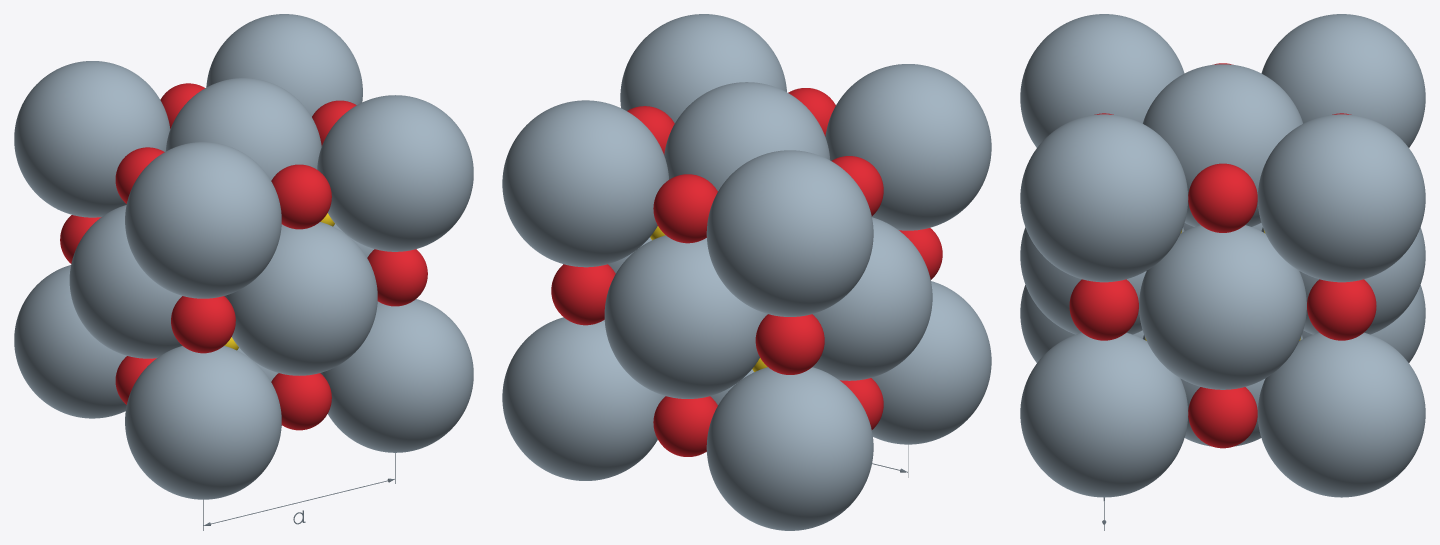
Rendered from kfz-kugelmodell.glb.
The picture shows the model from 3 angles, left to right: view 1: azimuth 30°, elevation 25°; view 2: azimuth 150°, elevation 25°; view 3: azimuth 270°, elevation 25°; orthographic projection. The views are drawn at different scales.
Parts seen in each view (by area): view 1: atom_ecke_011, atom_ecke_001, atom_ecke_111, atom_ecke_010, atom_flaeche_z1, atom_ecke_101, atom_ecke_000, atom_flaeche_x0, atom_ecke_110, atom_flaeche_y1, oktaeder_kante_y01, oktaeder_kante_x11 (+7 smaller); view 2: atom_ecke_010, atom_ecke_000, atom_ecke_110, atom_ecke_011, atom_ecke_100, atom_flaeche_z0, atom_ecke_001, atom_flaeche_x0, atom_ecke_111, atom_flaeche_y1, oktaeder_kante_y00, oktaeder_kante_x10 (+7 smaller); view 3: atom_ecke_110, atom_ecke_111, atom_ecke_100, atom_ecke_101, atom_flaeche_x1, atom_ecke_010, atom_ecke_011, atom_flaeche_y1, oktaeder_kante_z11, oktaeder_kante_y10, oktaeder_kante_y11, oktaeder_kante_z10 (+5 smaller).
Boxes of the visible parts, x1=… form: atom_ecke_011: x1=125, y1=142, x2=281, y2=298; atom_ecke_001: x1=125, y1=346, x2=281, y2=499; atom_ecke_111: x1=317, y1=95, x2=473, y2=251; atom_ecke_010: x1=14, y1=61, x2=170, y2=217; atom_flaeche_z1: x1=224, y1=222, x2=377, y2=375; atom_ecke_101: x1=320, y1=299, x2=473, y2=452; atom_ecke_000: x1=14, y1=265, x2=126, y2=418; atom_flaeche_x0: x1=69, y1=205, x2=182, y2=358; atom_ecke_110: x1=206, y1=14, x2=362, y2=116; atom_flaeche_y1: x1=165, y1=78, x2=321, y2=180; oktaeder_kante_y01: x1=171, y1=296, x2=235, y2=353; oktaeder_kante_x11: x1=271, y1=164, x2=331, y2=229; atom_ecke_010: x1=706, y1=150, x2=873, y2=316; atom_ecke_000: x1=706, y1=367, x2=873, y2=530; atom_ecke_110: x1=502, y1=100, x2=668, y2=267; atom_ecke_011: x1=825, y1=64, x2=991, y2=230; atom_ecke_100: x1=502, y1=317, x2=665, y2=480; atom_flaeche_z0: x1=604, y1=235, x2=767, y2=398; atom_ecke_001: x1=871, y1=281, x2=991, y2=444; atom_flaeche_x0: x1=812, y1=217, x2=932, y2=380; atom_ecke_111: x1=620, y1=14, x2=786, y2=123; atom_flaeche_y1: x1=664, y1=82, x2=830, y2=191; oktaeder_kante_y00: x1=755, y1=314, x2=824, y2=374; oktaeder_kante_x10: x1=653, y1=174, x2=717, y2=243; atom_ecke_110: x1=1257, y1=114, x2=1425, y2=282; atom_ecke_111: x1=1020, y1=114, x2=1188, y2=282; atom_ecke_100: x1=1257, y1=332, x2=1425, y2=497; atom_ecke_101: x1=1020, y1=332, x2=1188, y2=497; atom_flaeche_x1: x1=1139, y1=225, x2=1306, y2=389; atom_ecke_010: x1=1261, y1=14, x2=1425, y2=147; atom_ecke_011: x1=1020, y1=14, x2=1184, y2=147; atom_flaeche_y1: x1=1143, y1=64, x2=1302, y2=226; oktaeder_kante_z11: x1=1188, y1=163, x2=1257, y2=232; oktaeder_kante_y10: x1=1307, y1=279, x2=1376, y2=340; oktaeder_kante_y11: x1=1069, y1=279, x2=1138, y2=340; oktaeder_kante_z10: x1=1188, y1=387, x2=1257, y2=448.
Size of the model in its own units: 1.71 by 1.98 by 1.71.
